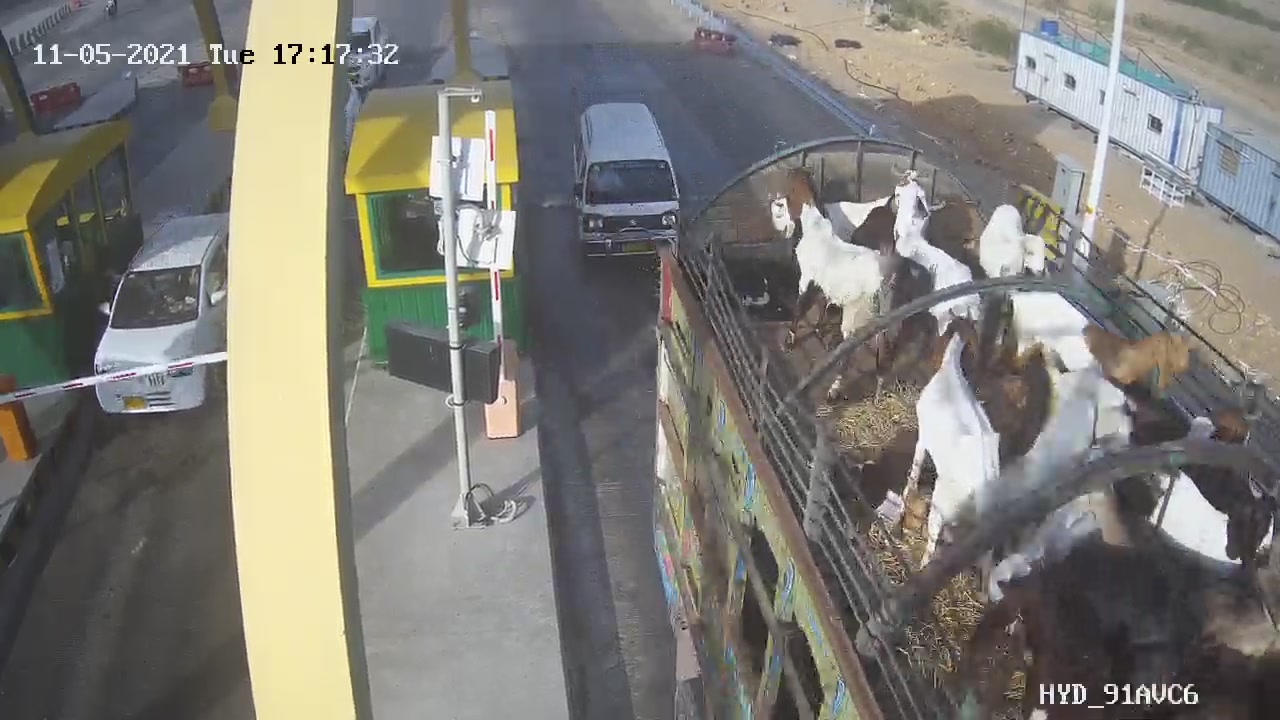F1: (555, 90, 699, 279)
